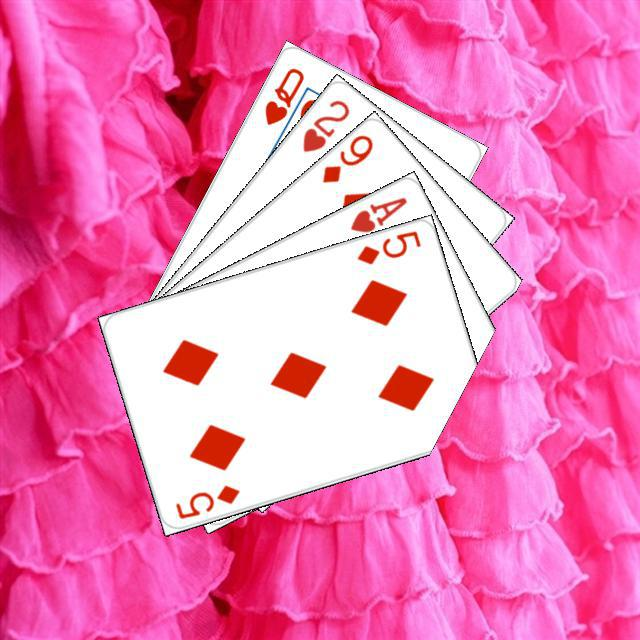2h: (297, 94, 352, 154)
5d: (170, 480, 242, 521), (352, 226, 423, 267)
9d: (317, 129, 375, 185)
Ah: (345, 192, 409, 235)
Qh: (259, 62, 306, 128)
